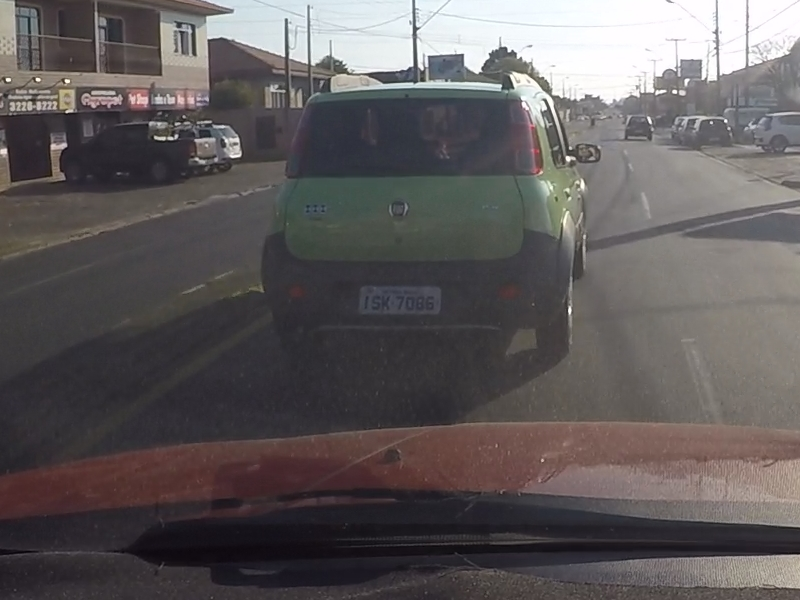placa: (359, 286, 442, 314)
